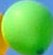Balloon: (1, 1, 53, 55)
